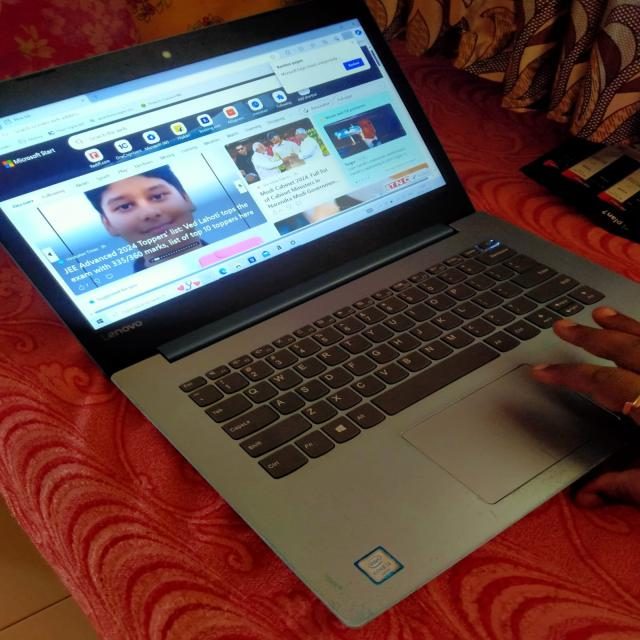Laptop: (0, 3, 640, 624)
